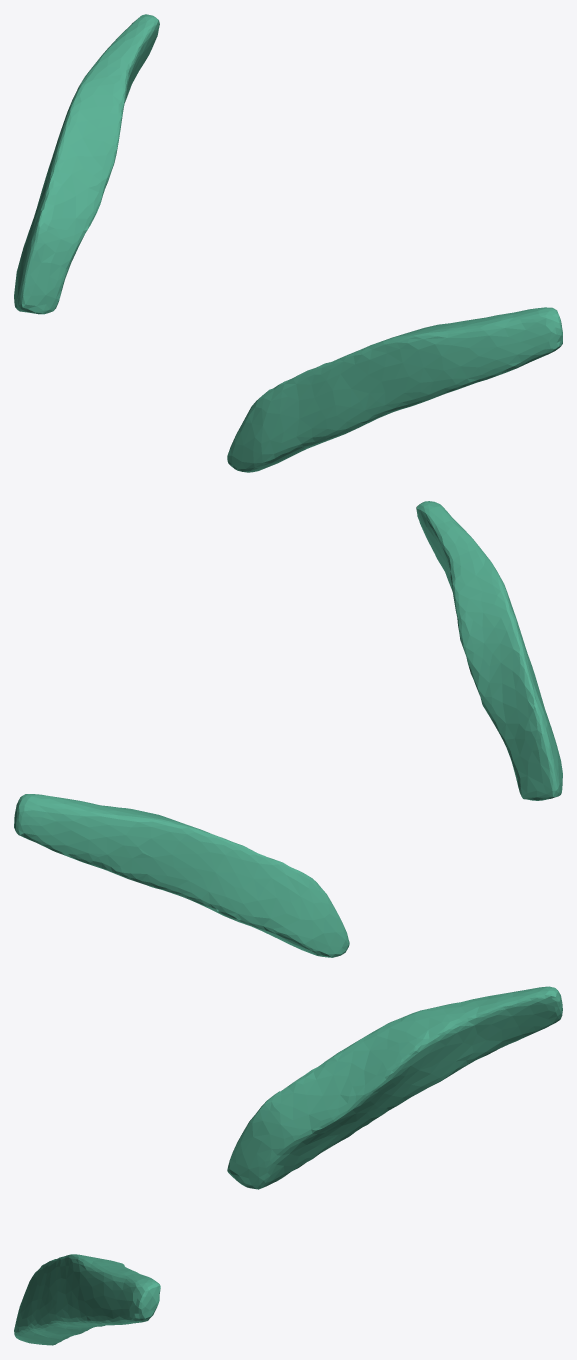
3 renders of one model, top to bottom at view 1: azimuth 30°, elevation 25°; view 2: azimuth 150°, elevation 25°; view 3: azimuth 330°, elevation 25°, orthographic.
Parts seen in each view (by area): view 1: 1101.obj; view 2: 1101.obj; view 3: 1101.obj.
Boxes of the visible parts, box(x1,y1,x2,y2) form: 1101.obj: box(14, 14, 562, 472); 1101.obj: box(14, 501, 562, 957); 1101.obj: box(14, 986, 562, 1345).
Bounding box in the file's own units: 2448 × 1763 × 7578.
